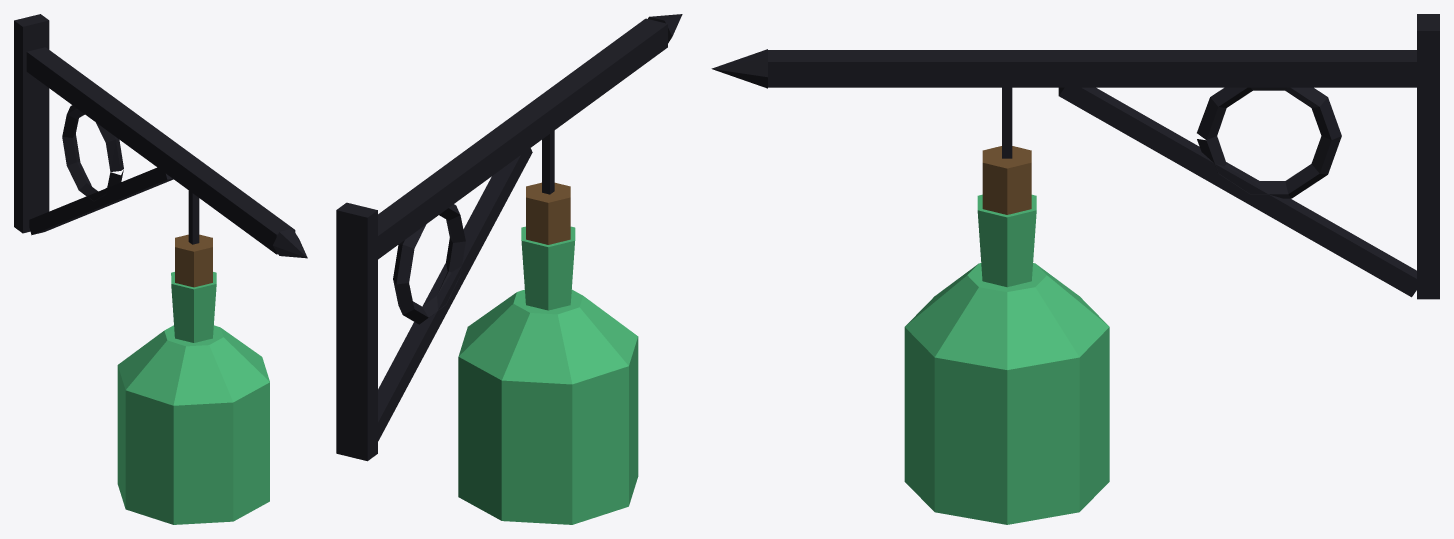
The model's file is shop-sign-apothecary.glb.
3 renders of one model, left to right at view 1: azimuth 30°, elevation 25°; view 2: azimuth 150°, elevation 25°; view 3: azimuth 270°, elevation 25°, orthographic. The views are drawn at different scales.
Visible parts, largest first — view 1: shop-sign-apothecary; view 2: shop-sign-apothecary; view 3: shop-sign-apothecary.
Boxes of the visible parts, x1=… form: shop-sign-apothecary: x1=14, y1=14, x2=307, y2=524; shop-sign-apothecary: x1=336, y1=14, x2=682, y2=524; shop-sign-apothecary: x1=711, y1=14, x2=1439, y2=524.
Bounding box in the file's own units: 0.36 × 0.89 × 1.28.
